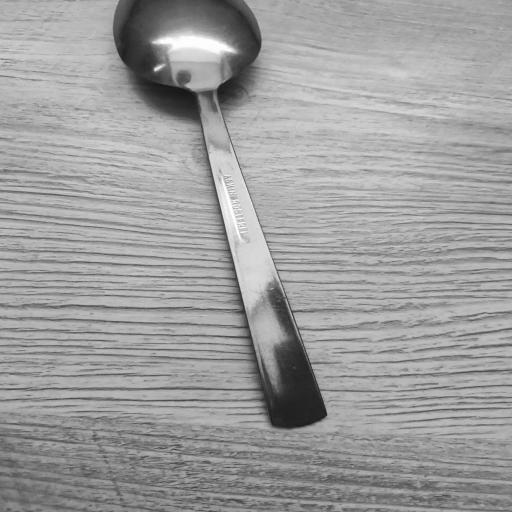spoon: (109, 0, 336, 429)
